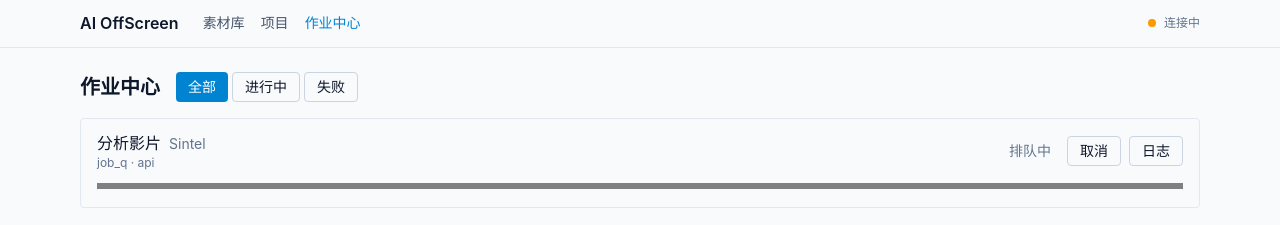
Test: job center › cancels a queued job and shows the result at once
Click the button "取消" at coordinates (1094, 151), box [1067,136,1121,166]
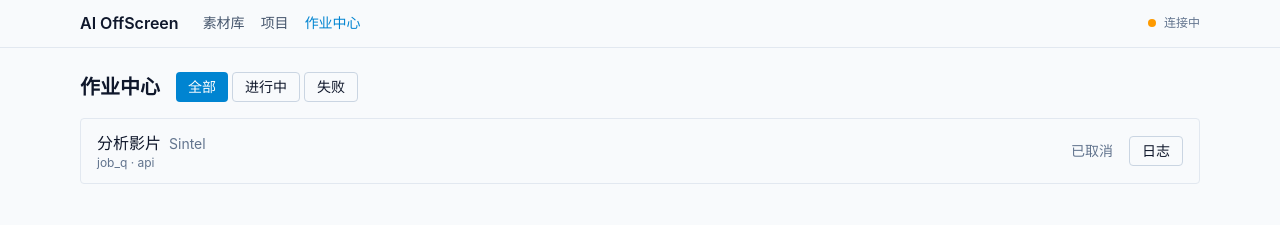
Expected: the list item shows "已取消", [1071,142,1113,159]
